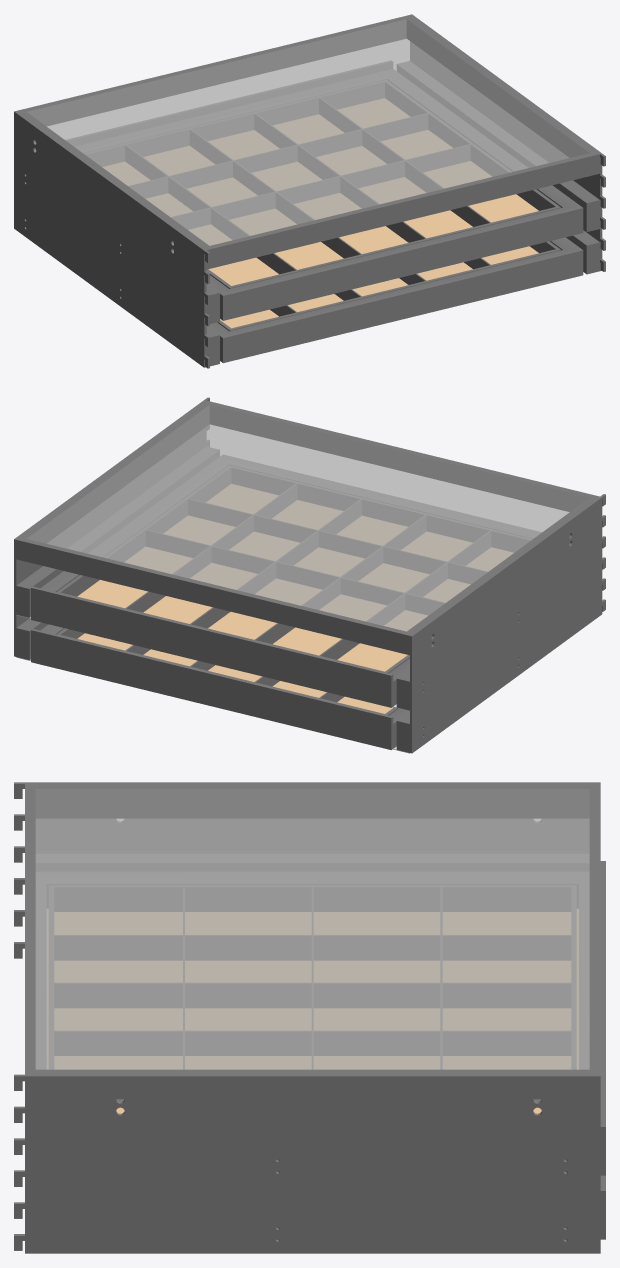
The picture shows the model from 3 angles, top to bottom: view 1: azimuth 30°, elevation 25°; view 2: azimuth 150°, elevation 25°; view 3: azimuth 270°, elevation 25°; orthographic projection. The views are drawn at different scales.
Visible parts, largest first — view 1: Geom3D (×3); view 2: Geom3D (×3); view 3: Geom3D (×3).
Part boxes in pixels (x1=…): Geom3D (×3): x1=14, y1=14, x2=605, y2=368; Geom3D (×3): x1=14, y1=397, x2=605, y2=753; Geom3D (×3): x1=14, y1=782, x2=605, y2=1253.
Size of the model in its own units: 0.6404 by 0.181 by 0.545.
